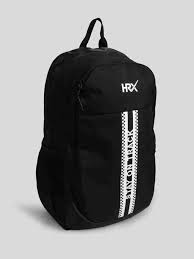backpack: (35, 17, 157, 230)
